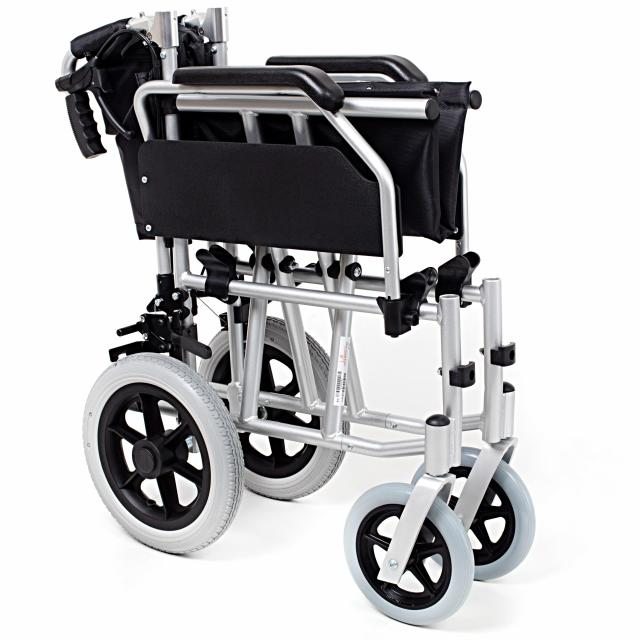wheelchair: (40, 0, 549, 634)
